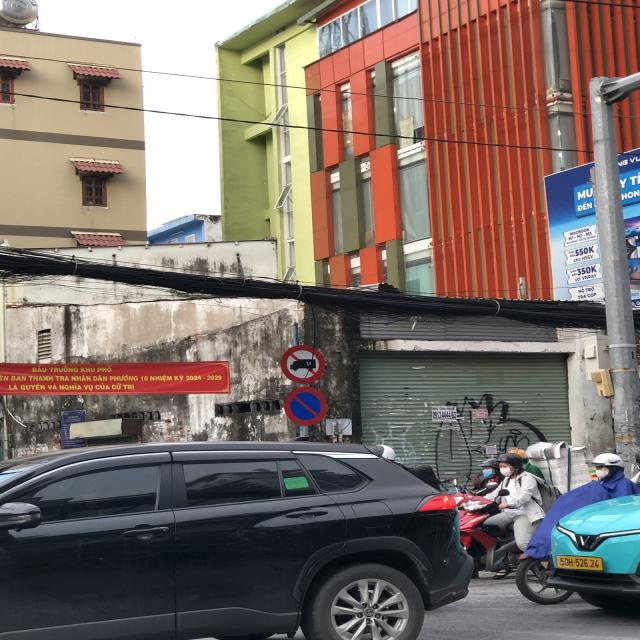Bien bao cam do xe: (282, 386, 330, 426)
Bien bao cam xe oto tai: (279, 343, 329, 385)
